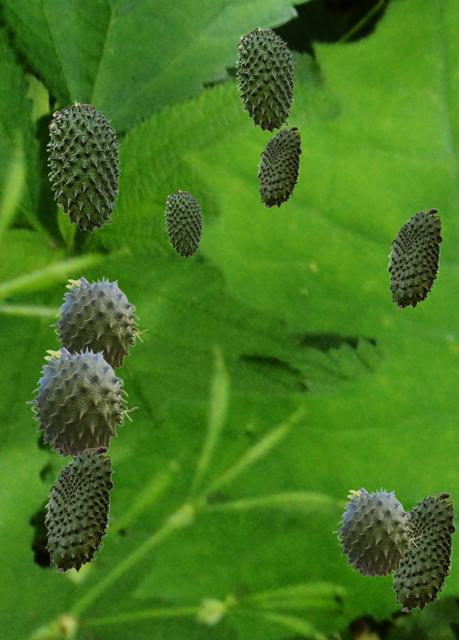guyabano: (25, 345, 137, 459), (46, 100, 121, 232), (49, 275, 147, 373), (44, 446, 113, 572), (332, 486, 421, 577), (390, 492, 455, 611), (235, 26, 295, 132), (387, 208, 442, 308), (257, 126, 301, 207), (164, 189, 202, 257)
